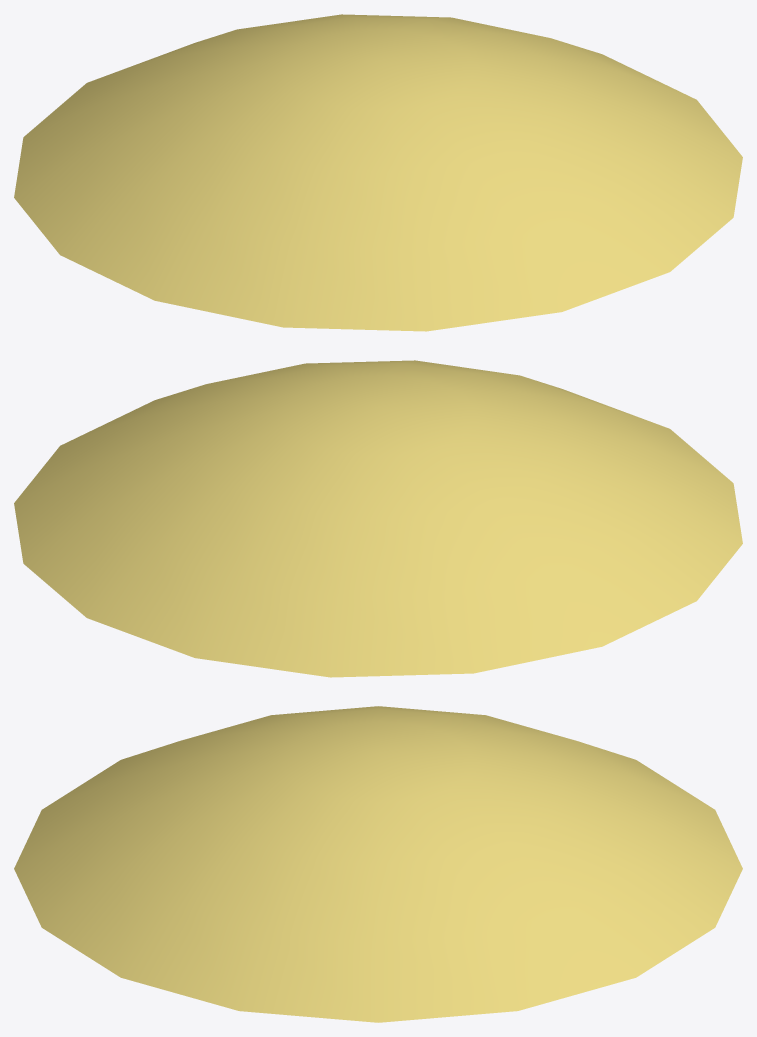
File: environment-beach.fbx
3 renders of one model, top to bottom at view 1: azimuth 30°, elevation 25°; view 2: azimuth 150°, elevation 25°; view 3: azimuth 270°, elevation 25°, orthographic.
Visible parts, largest first — view 1: beach; view 2: beach; view 3: beach.
Part boxes in pixels (x1,y1,x2,y2): beach: (14,14,742,331); beach: (14,360,742,677); beach: (14,706,742,1022).
Size of the model in its own units: 1148 by 200 by 1148.
